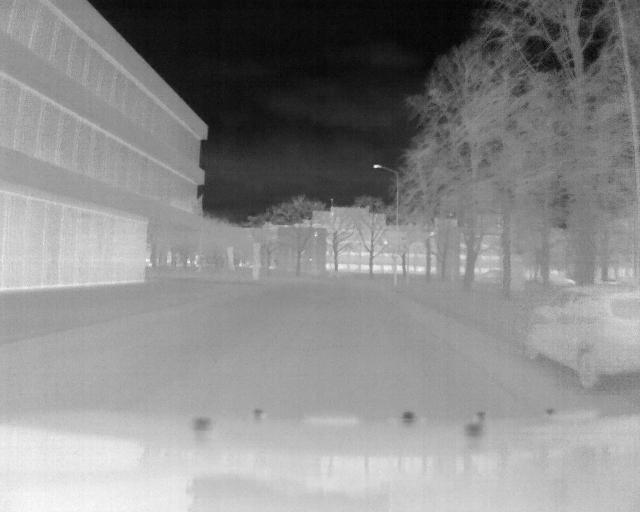car: (526, 284, 640, 387)
